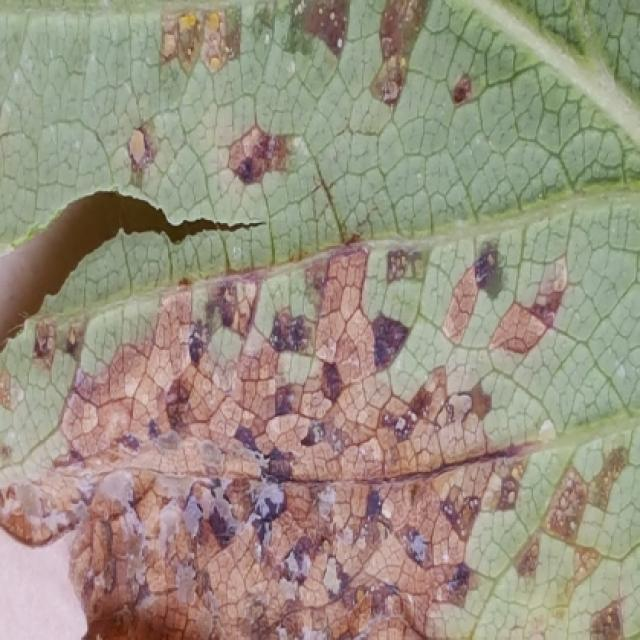Angular Leafspot: (0, 0, 638, 638)
